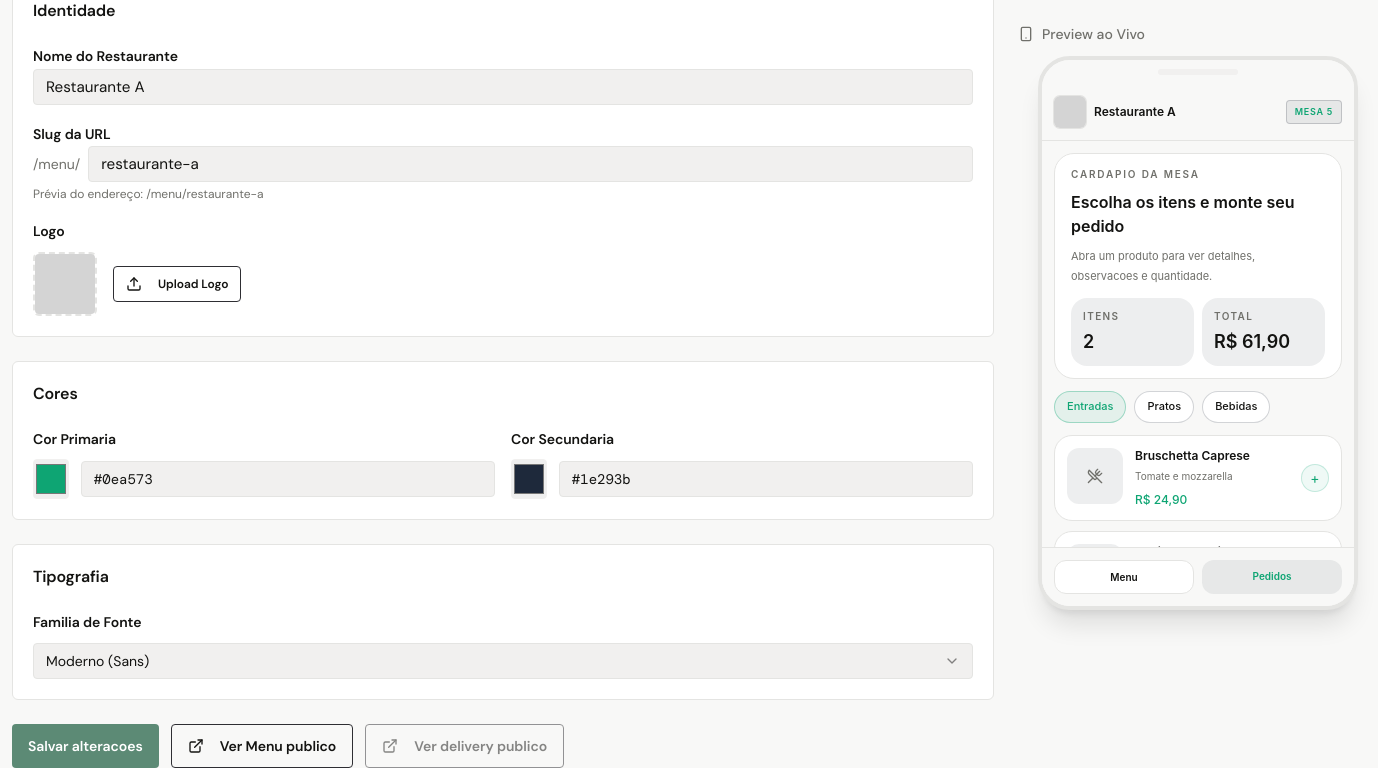
Test: a pending publication retains the old logo until ready then releases the preview without another upload
The image size is (1378, 768).
Earlier steps of the test are not shown.
Later steps or results of the test are not shown.
(page scrolled)
Expected: the field showing "Restaurante A" below "Nome do Restaurante" is shown, [33,69,973,105]
Click the button "Salvar alteracoes".
click(85, 746)  # box [12,724,159,767]
(page scrolled)
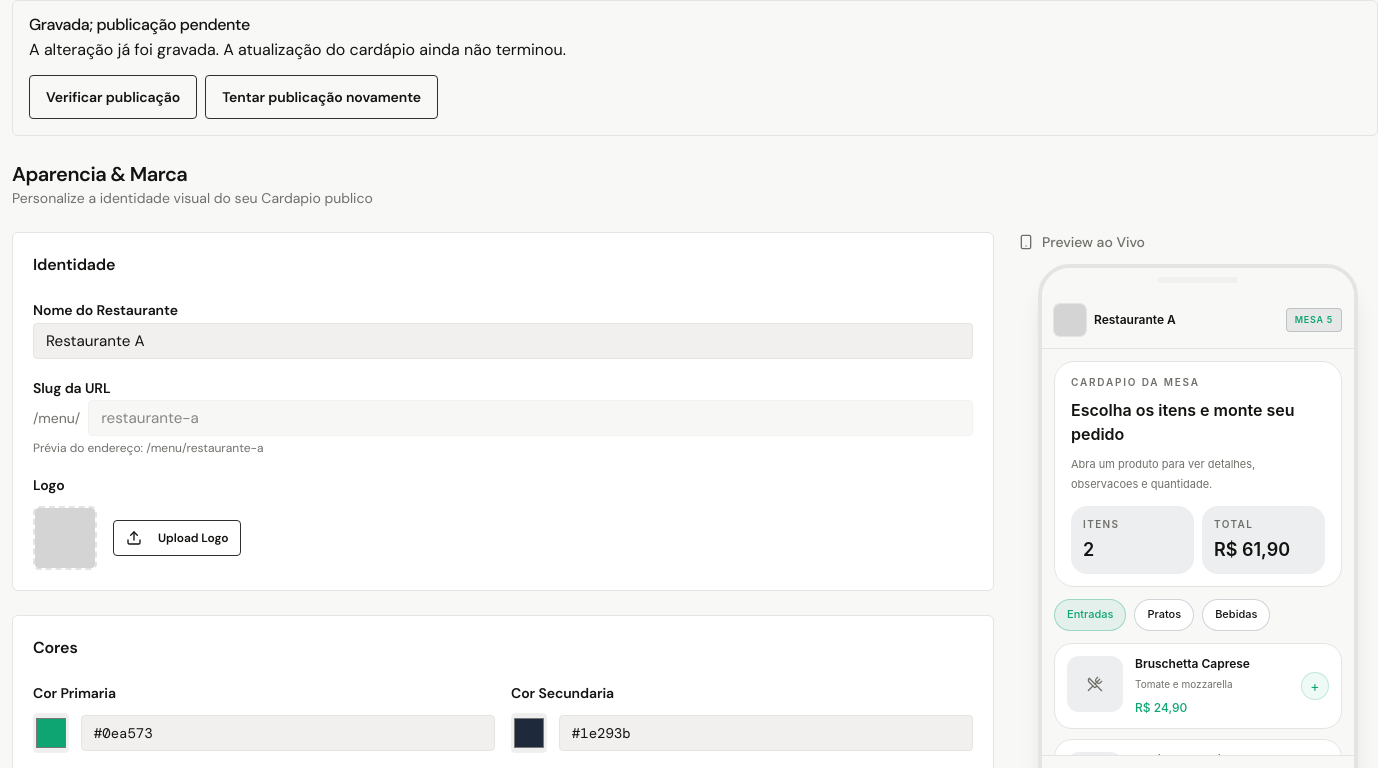
Expected: the heading "Gravada; publicação pendente" is shown, [29,14,250,35]
